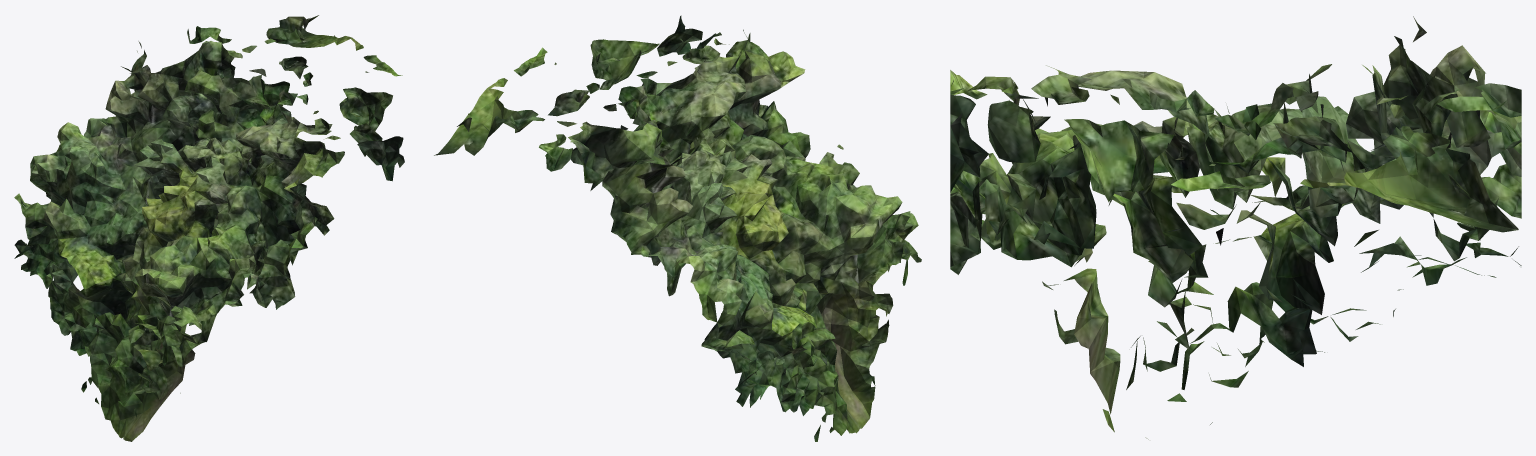
3 renders of one model, left to right at view 1: azimuth 30°, elevation 25°; view 2: azimuth 150°, elevation 25°; view 3: azimuth 270°, elevation 25°, orthographic. The views are drawn at different scales.
Bounding box in the file's own units: 52.22 × 50.26 × 52.22.
Materials: 6 (6 with a texture image).
